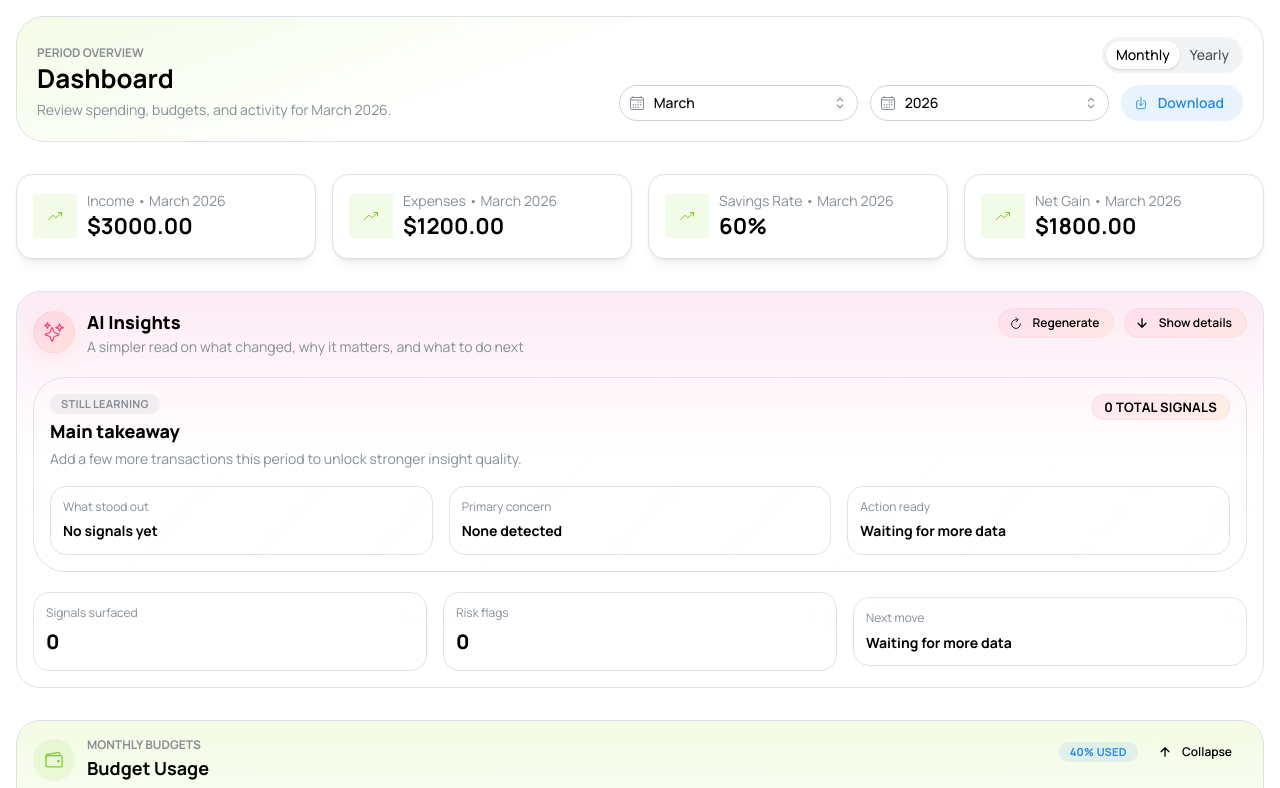
Test: App routes › supports switching the dashboard between monthly and yearly views
The image size is (1280, 788).
Expected: the text "Review spending, budgets, and activity for March 2026." is shown, [37, 100, 391, 121]
Expected: the 1st field with placeholder "Select Month" is shown, [619, 85, 858, 121]
Click the radio button labelled "Yearly".
click(1209, 54)  # box [1190, 45, 1229, 64]
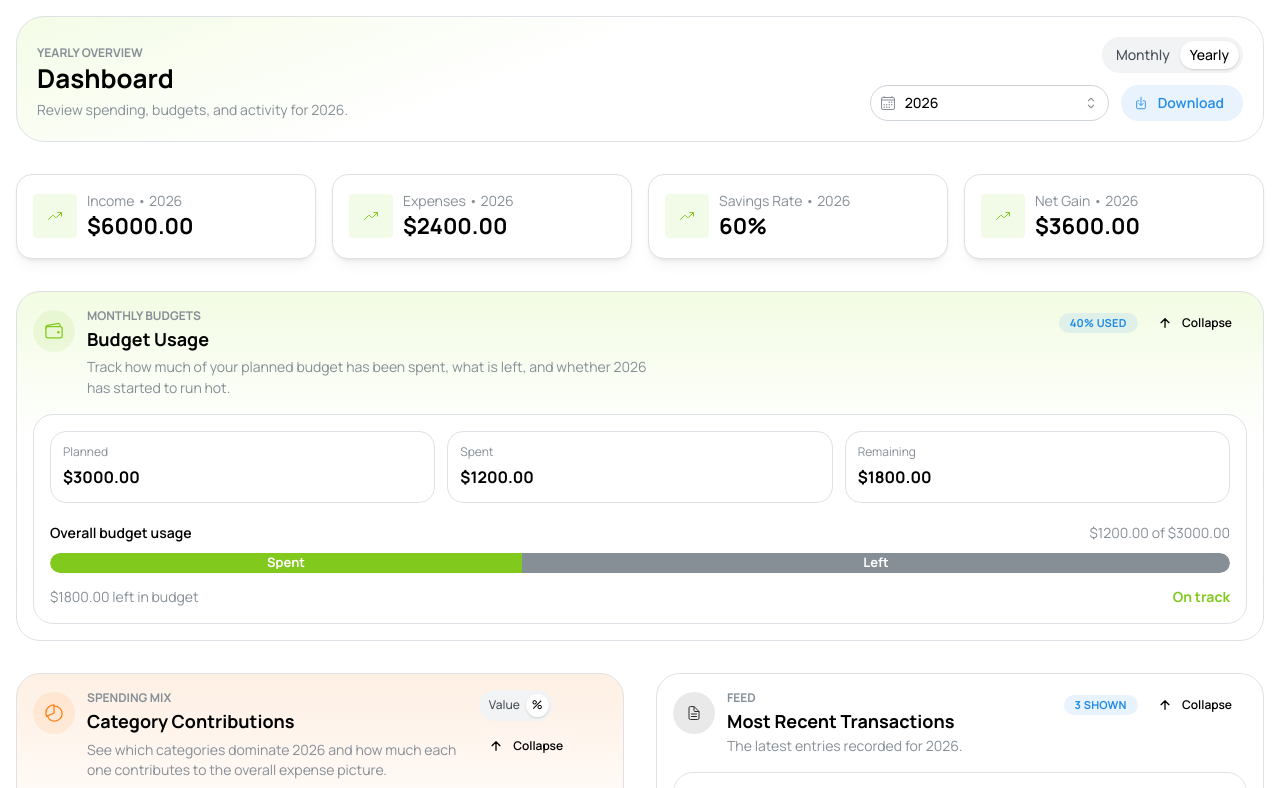
Expected: the text "Review spending, budgets, and activity for 2026." is shown, [37, 100, 348, 121]
